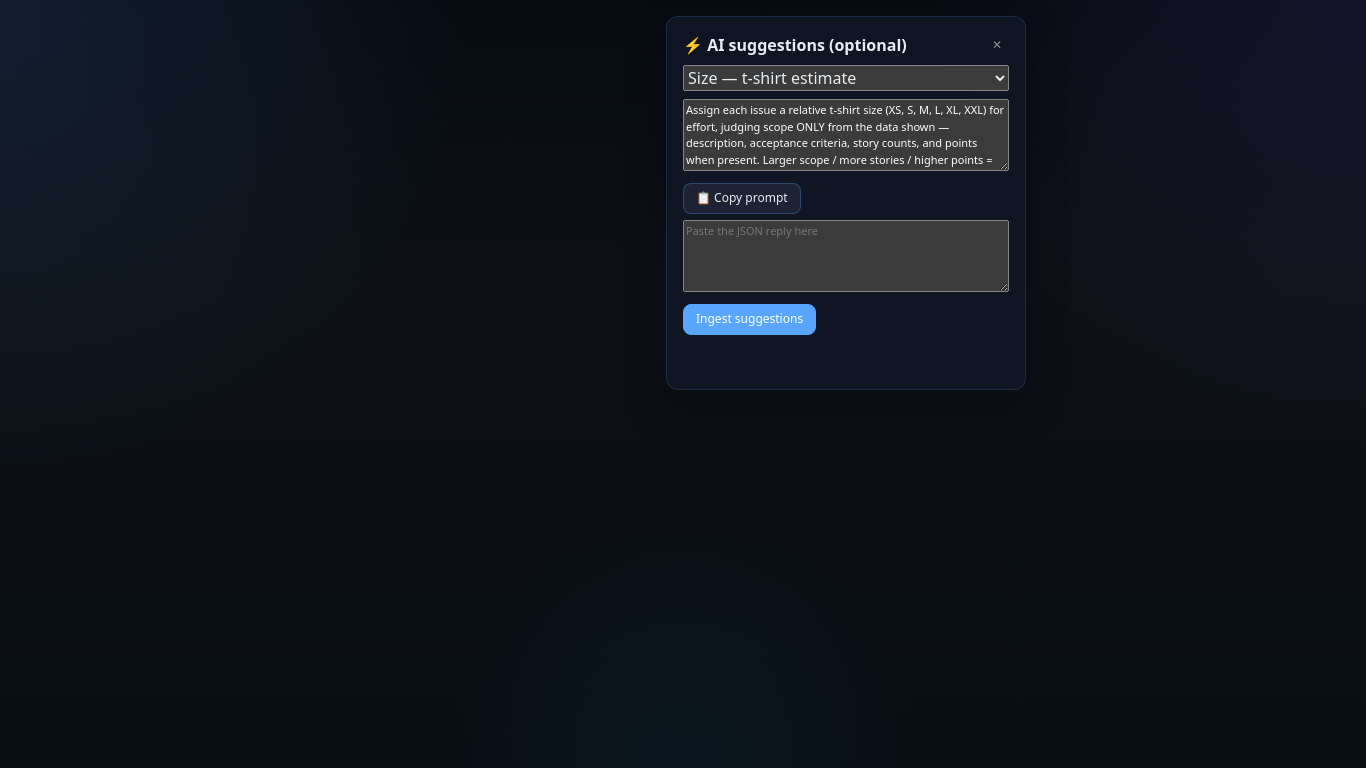
Test: AiSuggestionPanel › renders when unlocked and reports a descriptive error on malformed input without applying anything
Check: the text "⚡ AI suggestions (optional)" is shown, box [683,33,907,57]
Step 1. Type "not json at all" into the text box with placeholder "Paste the JSON reply here" → (846, 256), box [683,220,1009,292]
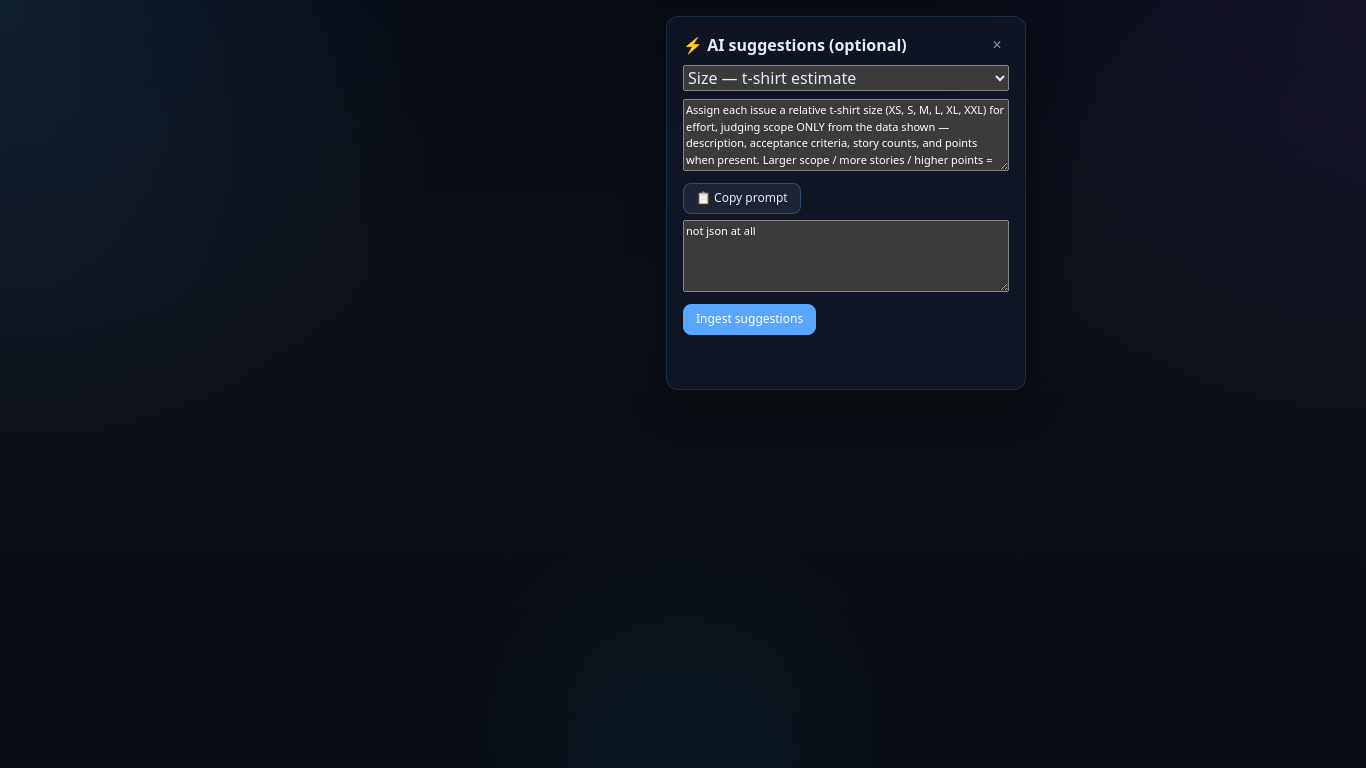
Step 2. Click the button "Ingest suggestions" → (750, 319), box [683,304,816,335]
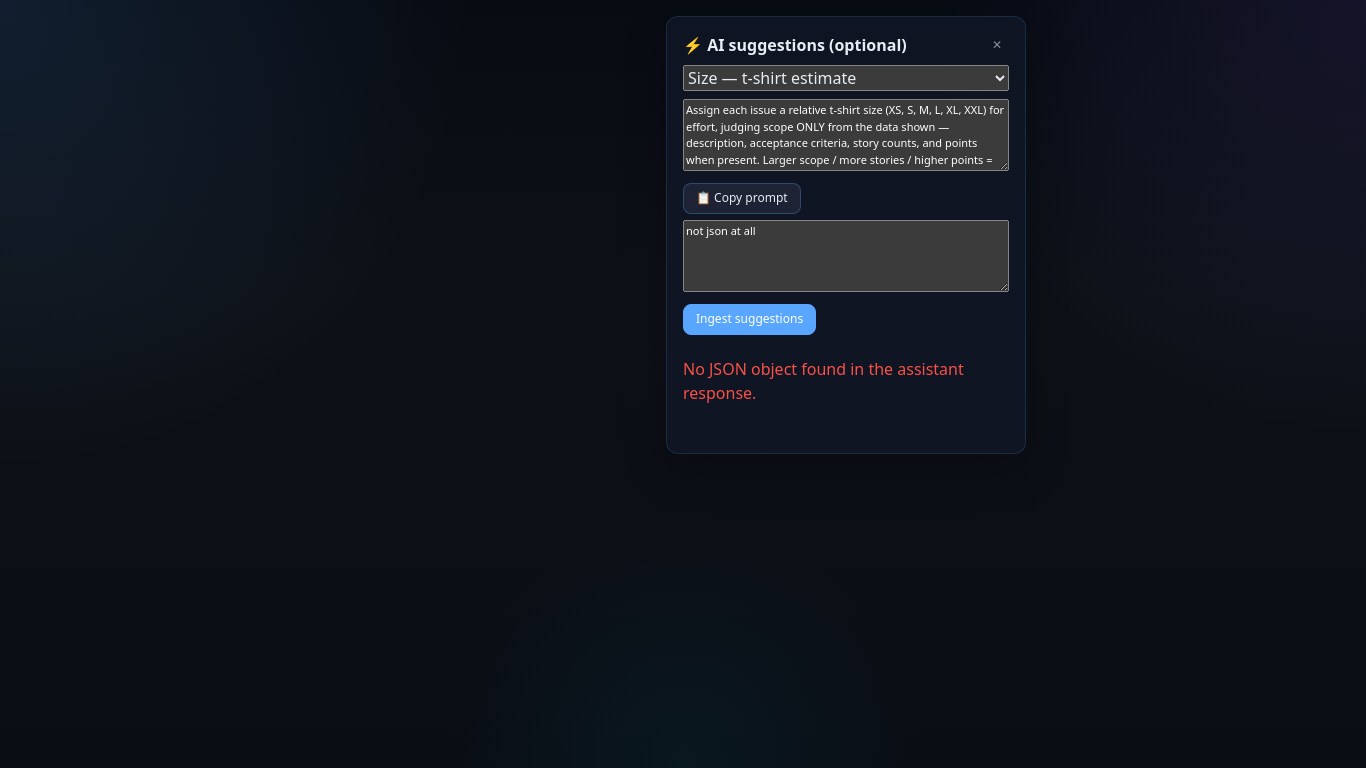
Check: the text "No JSON object found in the assistant response." is shown, box [683,357,1009,405]
